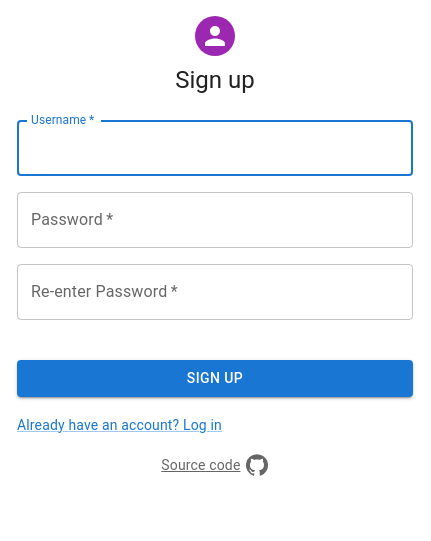
Signup Page tests › should show errors when password and re-enter password doesnt match
This screenshot has width=431, height=541.
In the password field with test id "password-field-1": coordinates (215, 220) x1=17 y1=192 x2=413 y2=248, type "123"
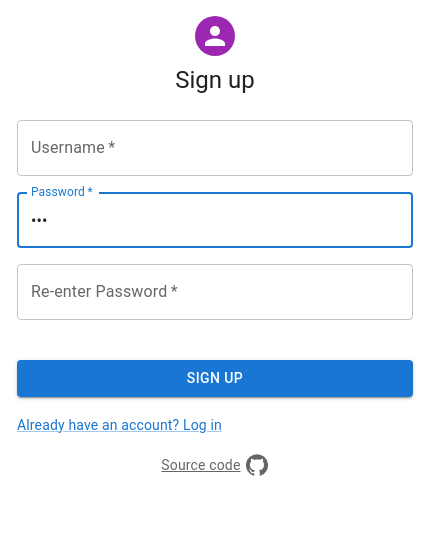
In the password field with test id "password-field-2": coordinates (215, 292) x1=17 y1=264 x2=413 y2=320, type "1234"
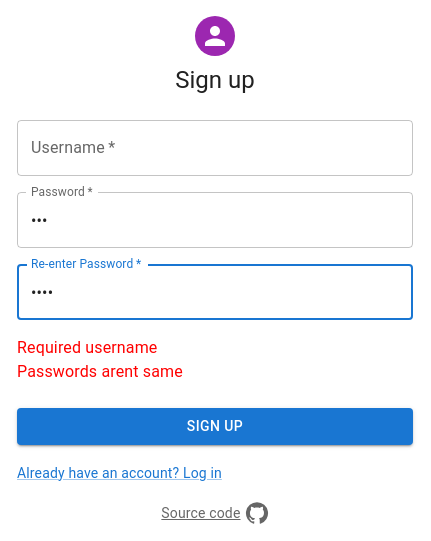
Check: the text "Passwords arent same" is shown, box x1=17 y1=362 x2=183 y2=381
